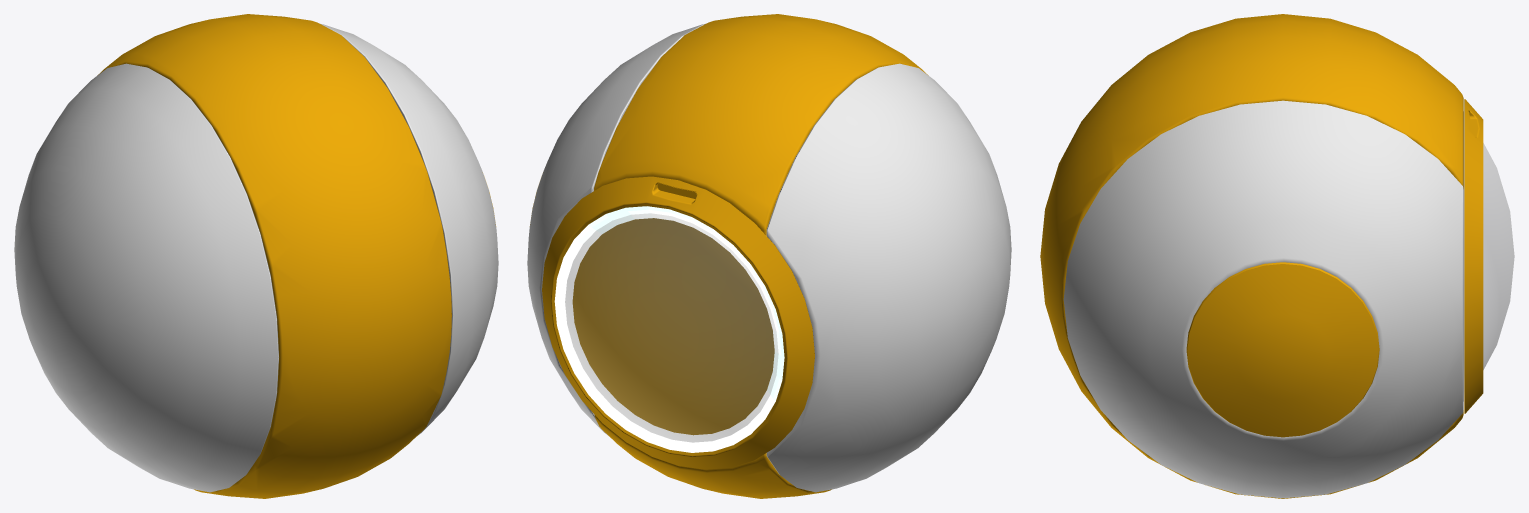
Rendered from RiggableBot.glb.
3 views of the same model, side by side, from view 1: azimuth 30°, elevation 25°; view 2: azimuth 150°, elevation 25°; view 3: azimuth 270°, elevation 25° (orthographic).
Visible parts, largest first — view 1: SideBody, CenterBody; view 2: SideBody, FrontRing, CenterBody, Glass, GlassLightRing; view 3: SideBody, CenterBody, SidePanel.001, FrontRing, Glass.
Part boxes in pixels (<box>): SideBody: <box>14,23,498,492</box>; CenterBody: <box>97,14,451,498</box>; SideBody: <box>527,23,1011,492</box>; FrontRing: <box>542,176,814,469</box>; CenterBody: <box>594,14,928,498</box>; Glass: <box>565,213,778,442</box>; GlassLightRing: <box>554,206,784,452</box>; SideBody: <box>1063,100,1463,498</box>; CenterBody: <box>1040,14,1463,498</box>; SidePanel.001: <box>1186,262,1379,437</box>; FrontRing: <box>1464,99,1483,413</box>; Glass: <box>1483,143,1514,369</box>.
Size of the model in its own units: 2 by 2 by 1.95.
